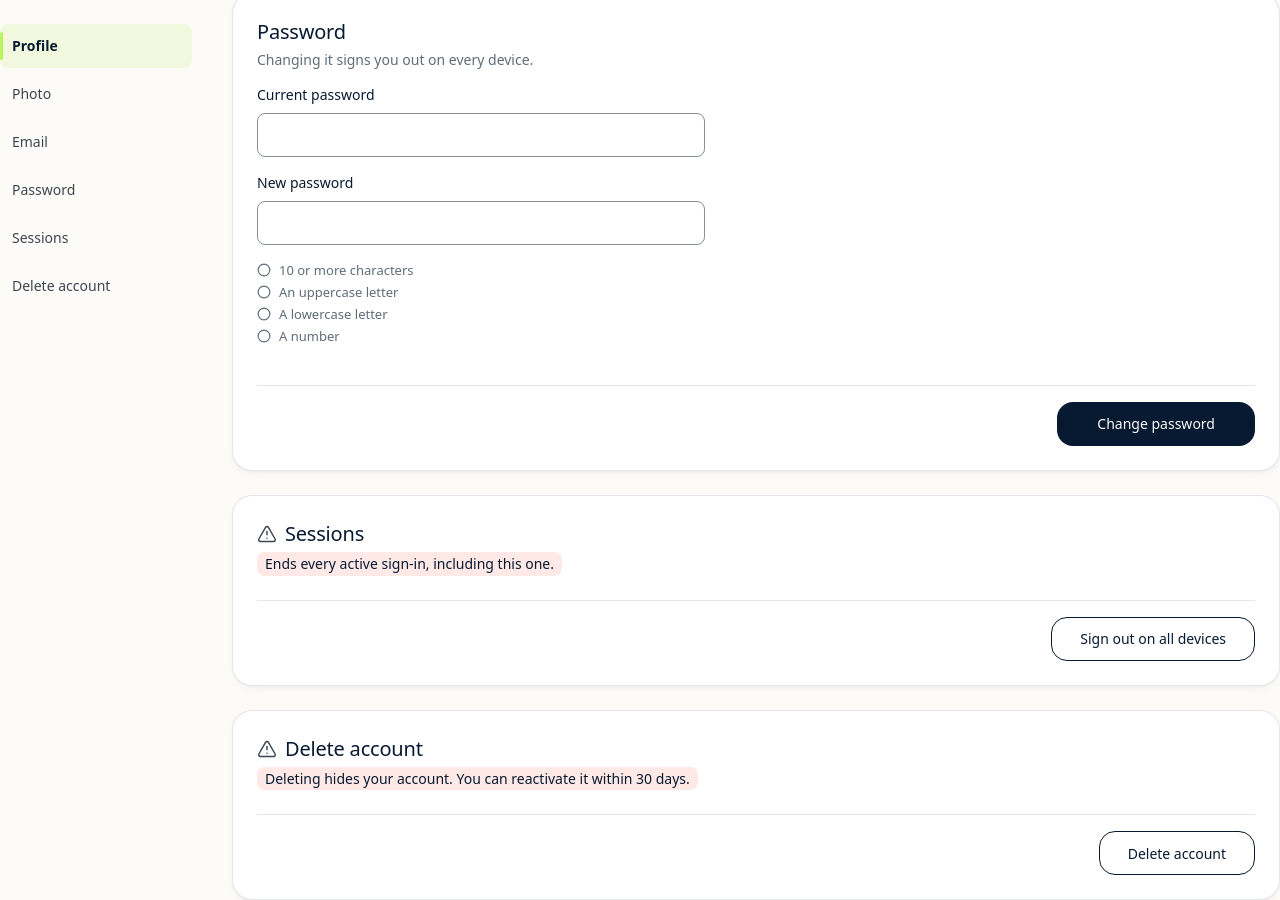
Test: another 409 on delete shows the server message
(page scrolled)
Click the button "Delete account". click: click(1177, 854)
box: [1099,832,1255,876]
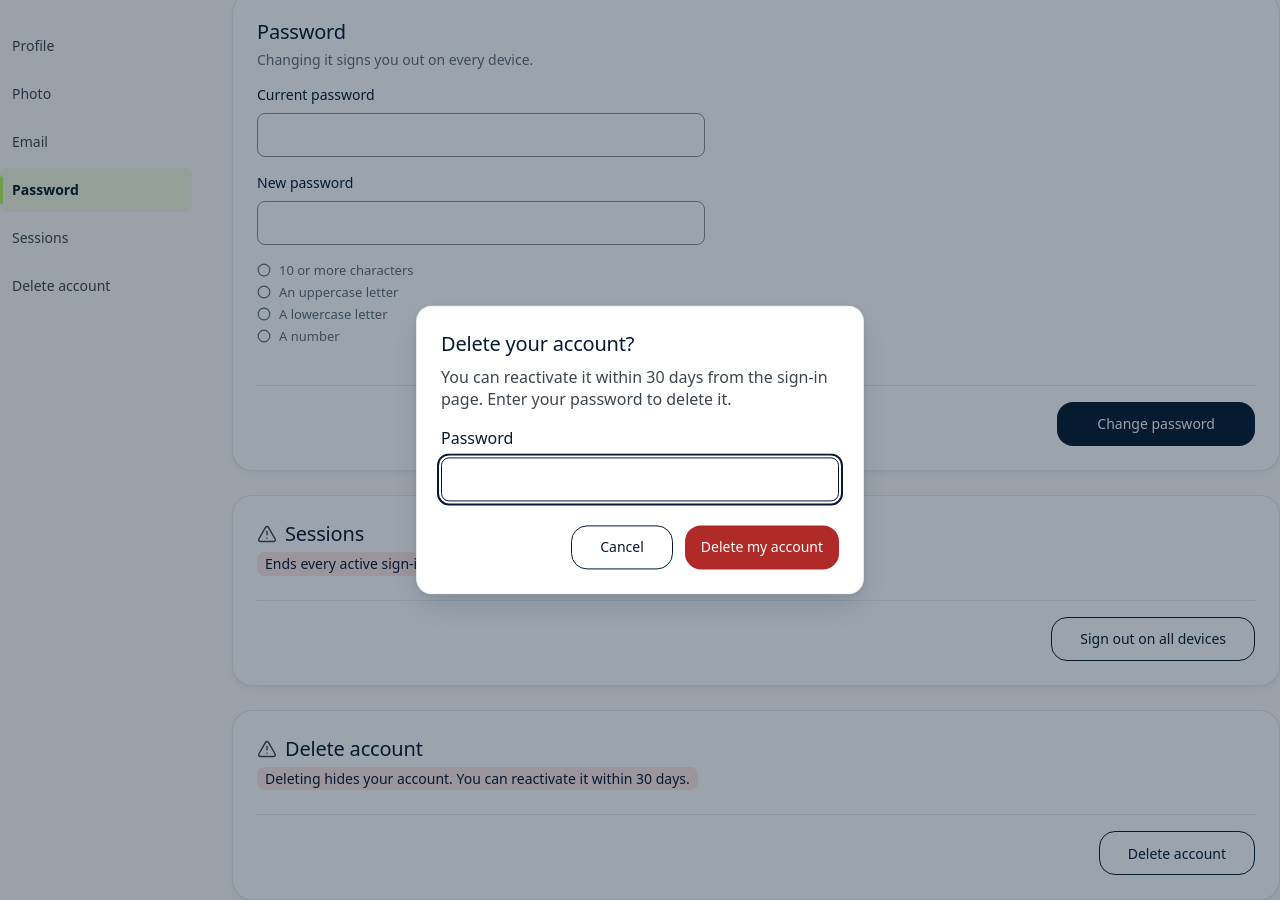
Type "OldPassw0rd!" into the password field labelled "Password". click: (640, 480)
box: [441,458,839,502]
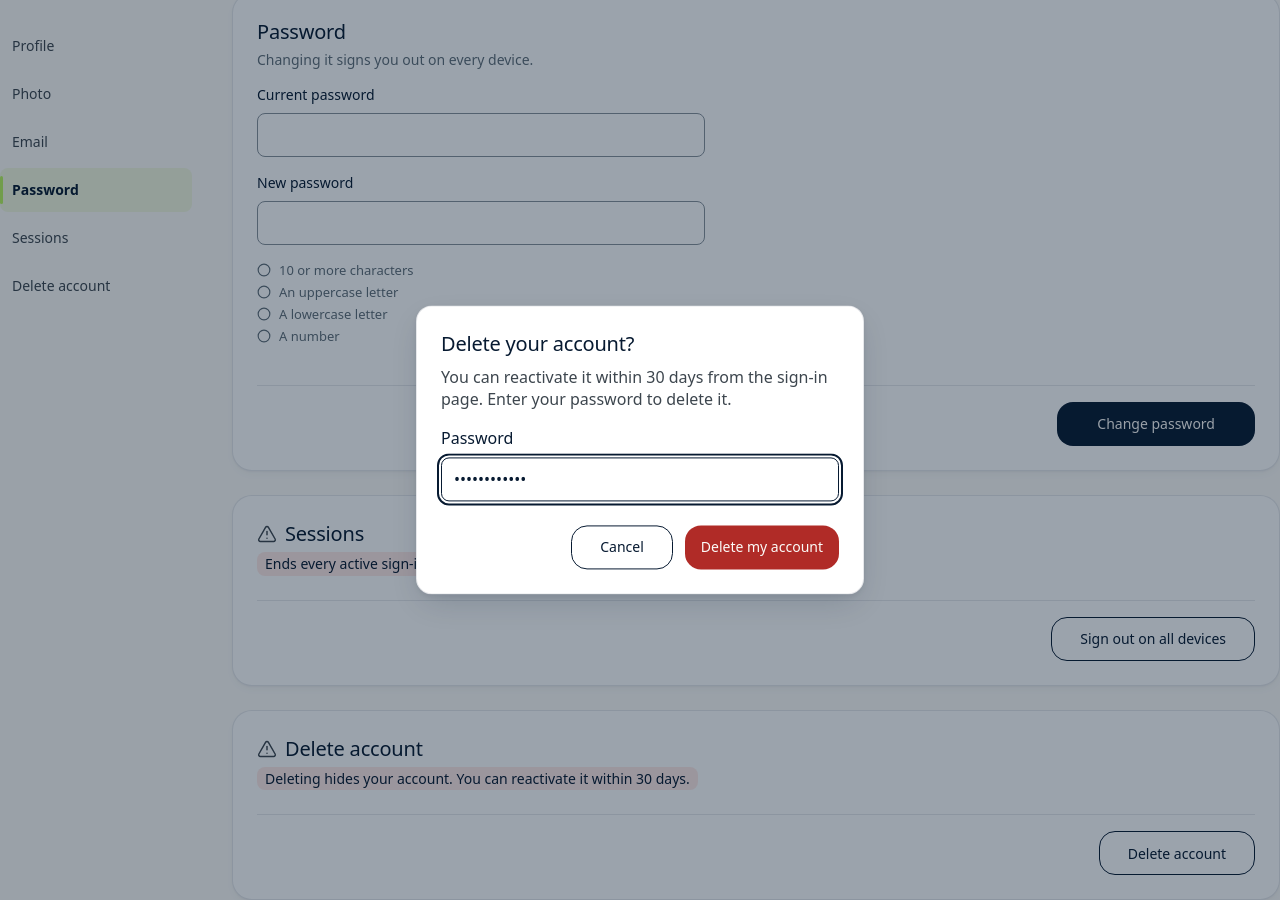
Click the button "Delete my account". click: click(762, 548)
box: [685,526,839,570]
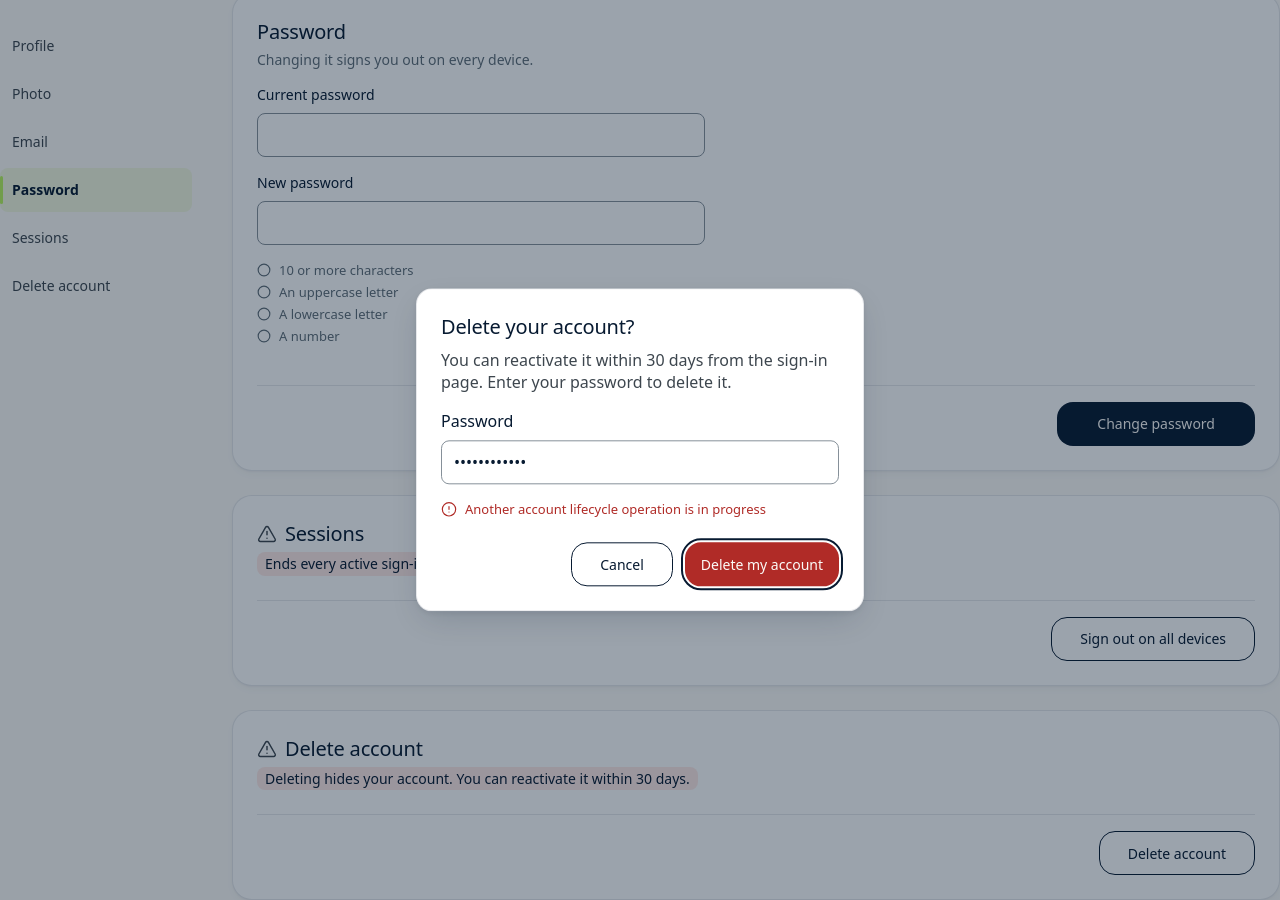
Now the text "Another account lifecycle operation is in progress" is shown, box [441,500,766,518]
